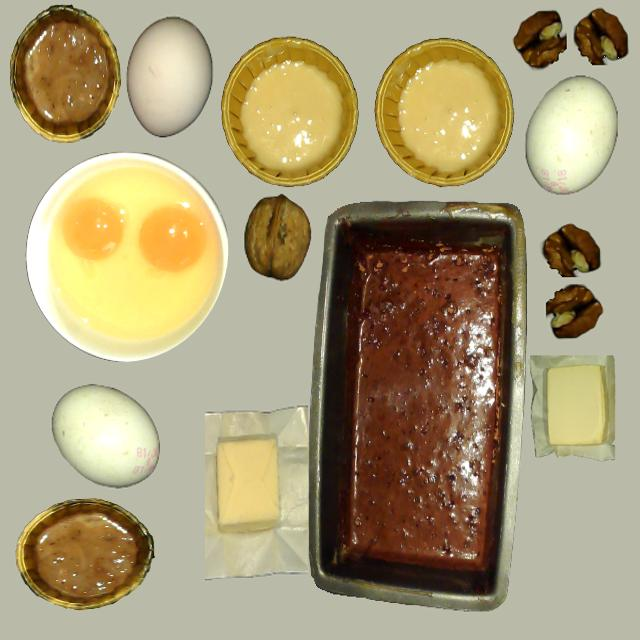Egg: (139, 205, 206, 273), (61, 197, 125, 261)
Walnut: (244, 195, 311, 278)
